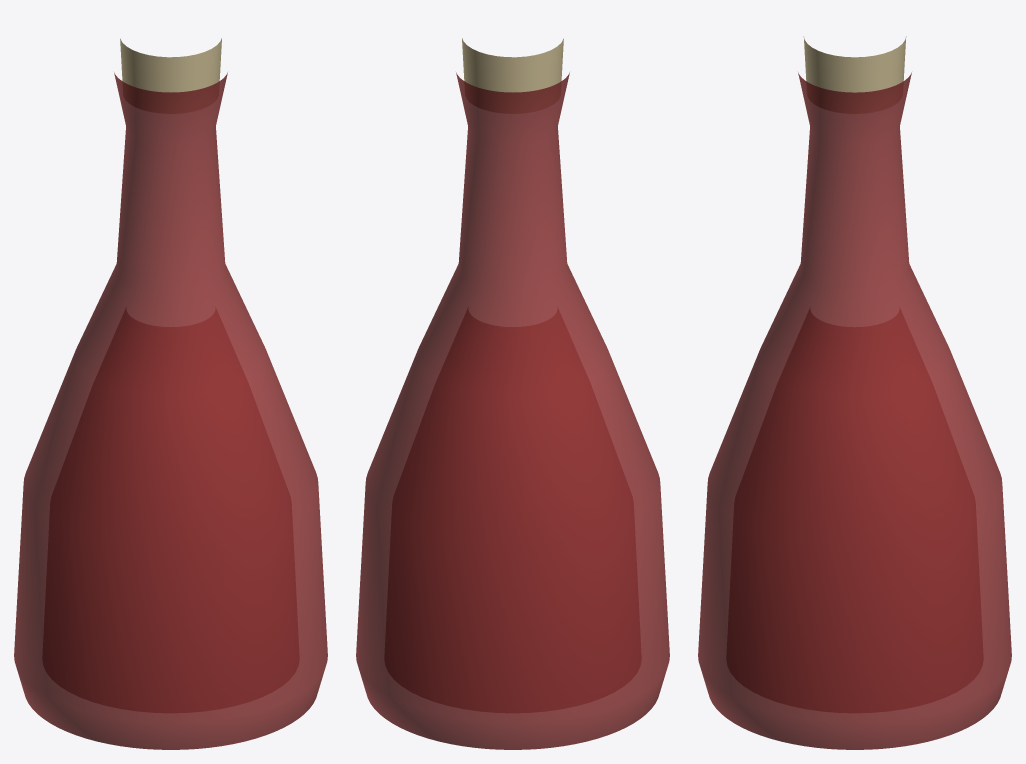
File: hennessy-xo.glb
The picture shows the model from 3 angles, left to right: view 1: azimuth 30°, elevation 25°; view 2: azimuth 150°, elevation 25°; view 3: azimuth 270°, elevation 25°; orthographic projection.
Visible parts, largest first — view 1: body, cap; view 2: body, cap; view 3: body, cap.
Boxes of the visible parts, x1,y1,x2,y2 form: body: (14, 72, 327, 749); cap: (120, 38, 221, 92); body: (356, 72, 669, 749); cap: (462, 38, 563, 92); body: (698, 72, 1011, 749); cap: (803, 36, 906, 92).
Bounding box in the file's own units: 0.49 × 1.12 × 0.49.
